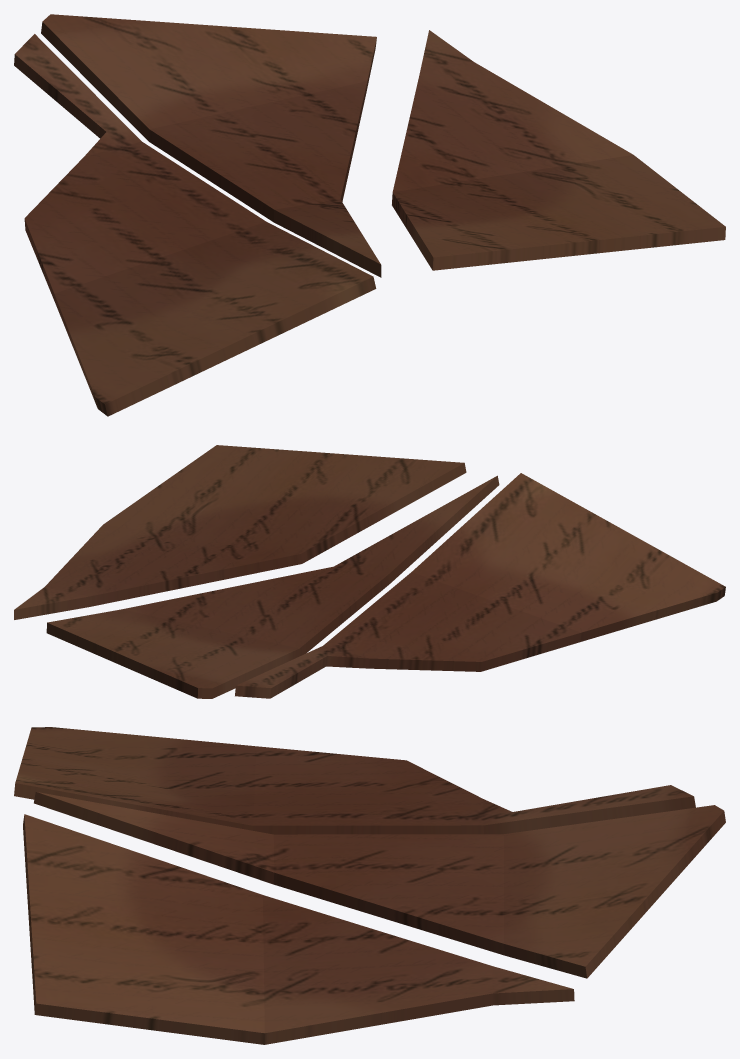
The model's file is AssetsWt.fbx.
The picture shows the model from 3 angles, top to bottom: view 1: azimuth 30°, elevation 25°; view 2: azimuth 150°, elevation 25°; view 3: azimuth 270°, elevation 25°; orthographic projection. The views are drawn at different scales.
Parts seen in each view (by area): view 1: Plane, Plane.002, Plane.003; view 2: Plane, Plane.003, Plane.002; view 3: Plane.003, Plane.002, Plane.
Part boxes in pixels (x1,y1,x2,y2): Plane: (14, 34, 376, 416); Plane.002: (41, 14, 381, 277); Plane.003: (392, 30, 725, 270); Plane: (235, 473, 725, 698); Plane.003: (14, 445, 466, 619); Plane.002: (46, 475, 499, 698); Plane.003: (23, 814, 574, 1044); Plane.002: (34, 792, 725, 978); Plane: (14, 727, 695, 834).
Bounding box in the file's own units: 163 × 19.92 × 158.
